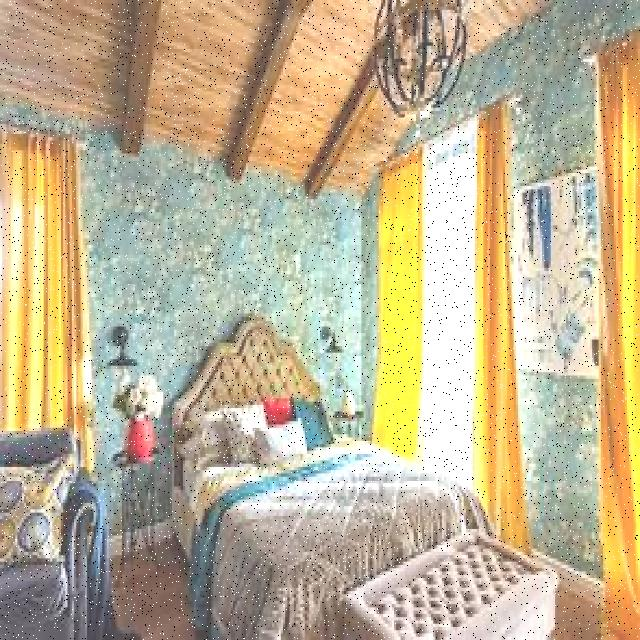bed: (168, 374, 470, 593)
